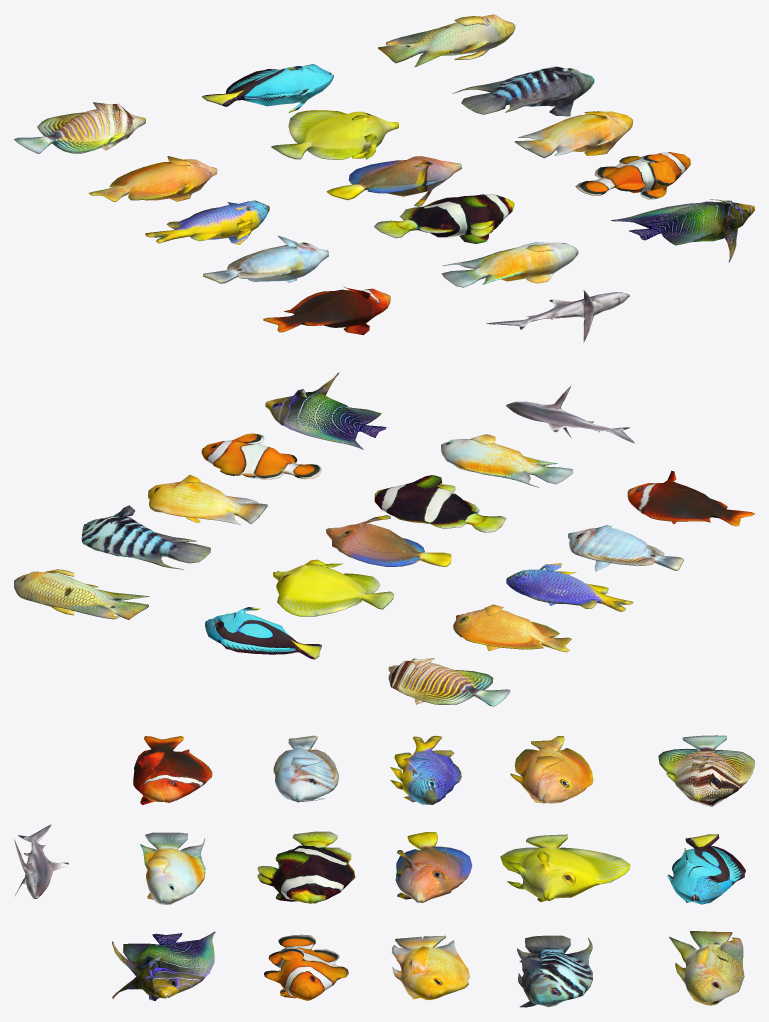
The model's file is fish.glb.
3 views of the same model, one above another, from view 1: azimuth 30°, elevation 25°; view 2: azimuth 150°, elevation 25°; view 3: azimuth 270°, elevation 25° (orthographic). The views are drawn at different scales.
Parts seen in each view (by area): view 1: lf4, lf10, lf5, lf14, lf2, lf0, lf13, lf12, lf7, lf8, lf1, lf3 (+4 smaller); view 2: lf4, lf10, lf14, lf5, lf2, lf0, lf13, lf8, lf7, lf3, lf12, lf11 (+4 smaller); view 3: lf4, lf10, lf14, lf0, lf5, lf2, lf8, lf7, lf3, lf12, lf13, lf1 (+4 smaller).
Boxes of the visible parts, box(x1,y1,x2,y2) form: lf4: box(271, 110, 398, 159); lf10: box(374, 193, 514, 243); lf5: box(452, 66, 594, 116); lf14: box(611, 199, 754, 262); lf2: box(378, 14, 515, 66); lf0: box(14, 102, 145, 153); lf13: box(441, 242, 578, 287); lf12: box(263, 286, 390, 335); lf7: box(326, 156, 461, 206); lf8: box(514, 111, 632, 158); lf1: box(202, 64, 333, 112); lf3: box(88, 156, 217, 201); lf4: box(273, 559, 393, 616); lf10: box(374, 475, 506, 532); lf14: box(265, 372, 386, 449); lf5: box(81, 505, 210, 569); lf2: box(14, 569, 149, 619); lf0: box(388, 658, 510, 706); lf13: box(441, 434, 573, 487); lf8: box(148, 474, 267, 524); lf7: box(326, 515, 451, 566); lf3: box(453, 604, 571, 652); lf12: box(627, 470, 754, 526); lf11: box(201, 433, 321, 479); lf4: box(500, 834, 630, 902); lf10: box(257, 831, 355, 903); lf14: box(112, 931, 215, 1000); lf0: box(658, 735, 754, 806); lf5: box(517, 935, 592, 1007); lf2: box(669, 931, 744, 1005); lf8: box(391, 935, 469, 1000); lf7: box(395, 832, 472, 902); lf3: box(510, 736, 593, 803); lf12: box(133, 736, 212, 804); lf13: box(140, 832, 205, 904); lf1: box(667, 834, 745, 904).
Bounding box in the file's own units: 18.91 × 1.98 × 22.21.
Materials: 16 (16 with a texture image).
